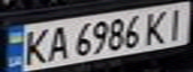6: (121, 12, 148, 50), (72, 19, 93, 57)
8: (106, 16, 127, 52)
9: (90, 17, 112, 55)
A: (42, 23, 72, 62)
I: (160, 4, 190, 40)
K: (18, 25, 51, 65), (139, 8, 172, 45)
